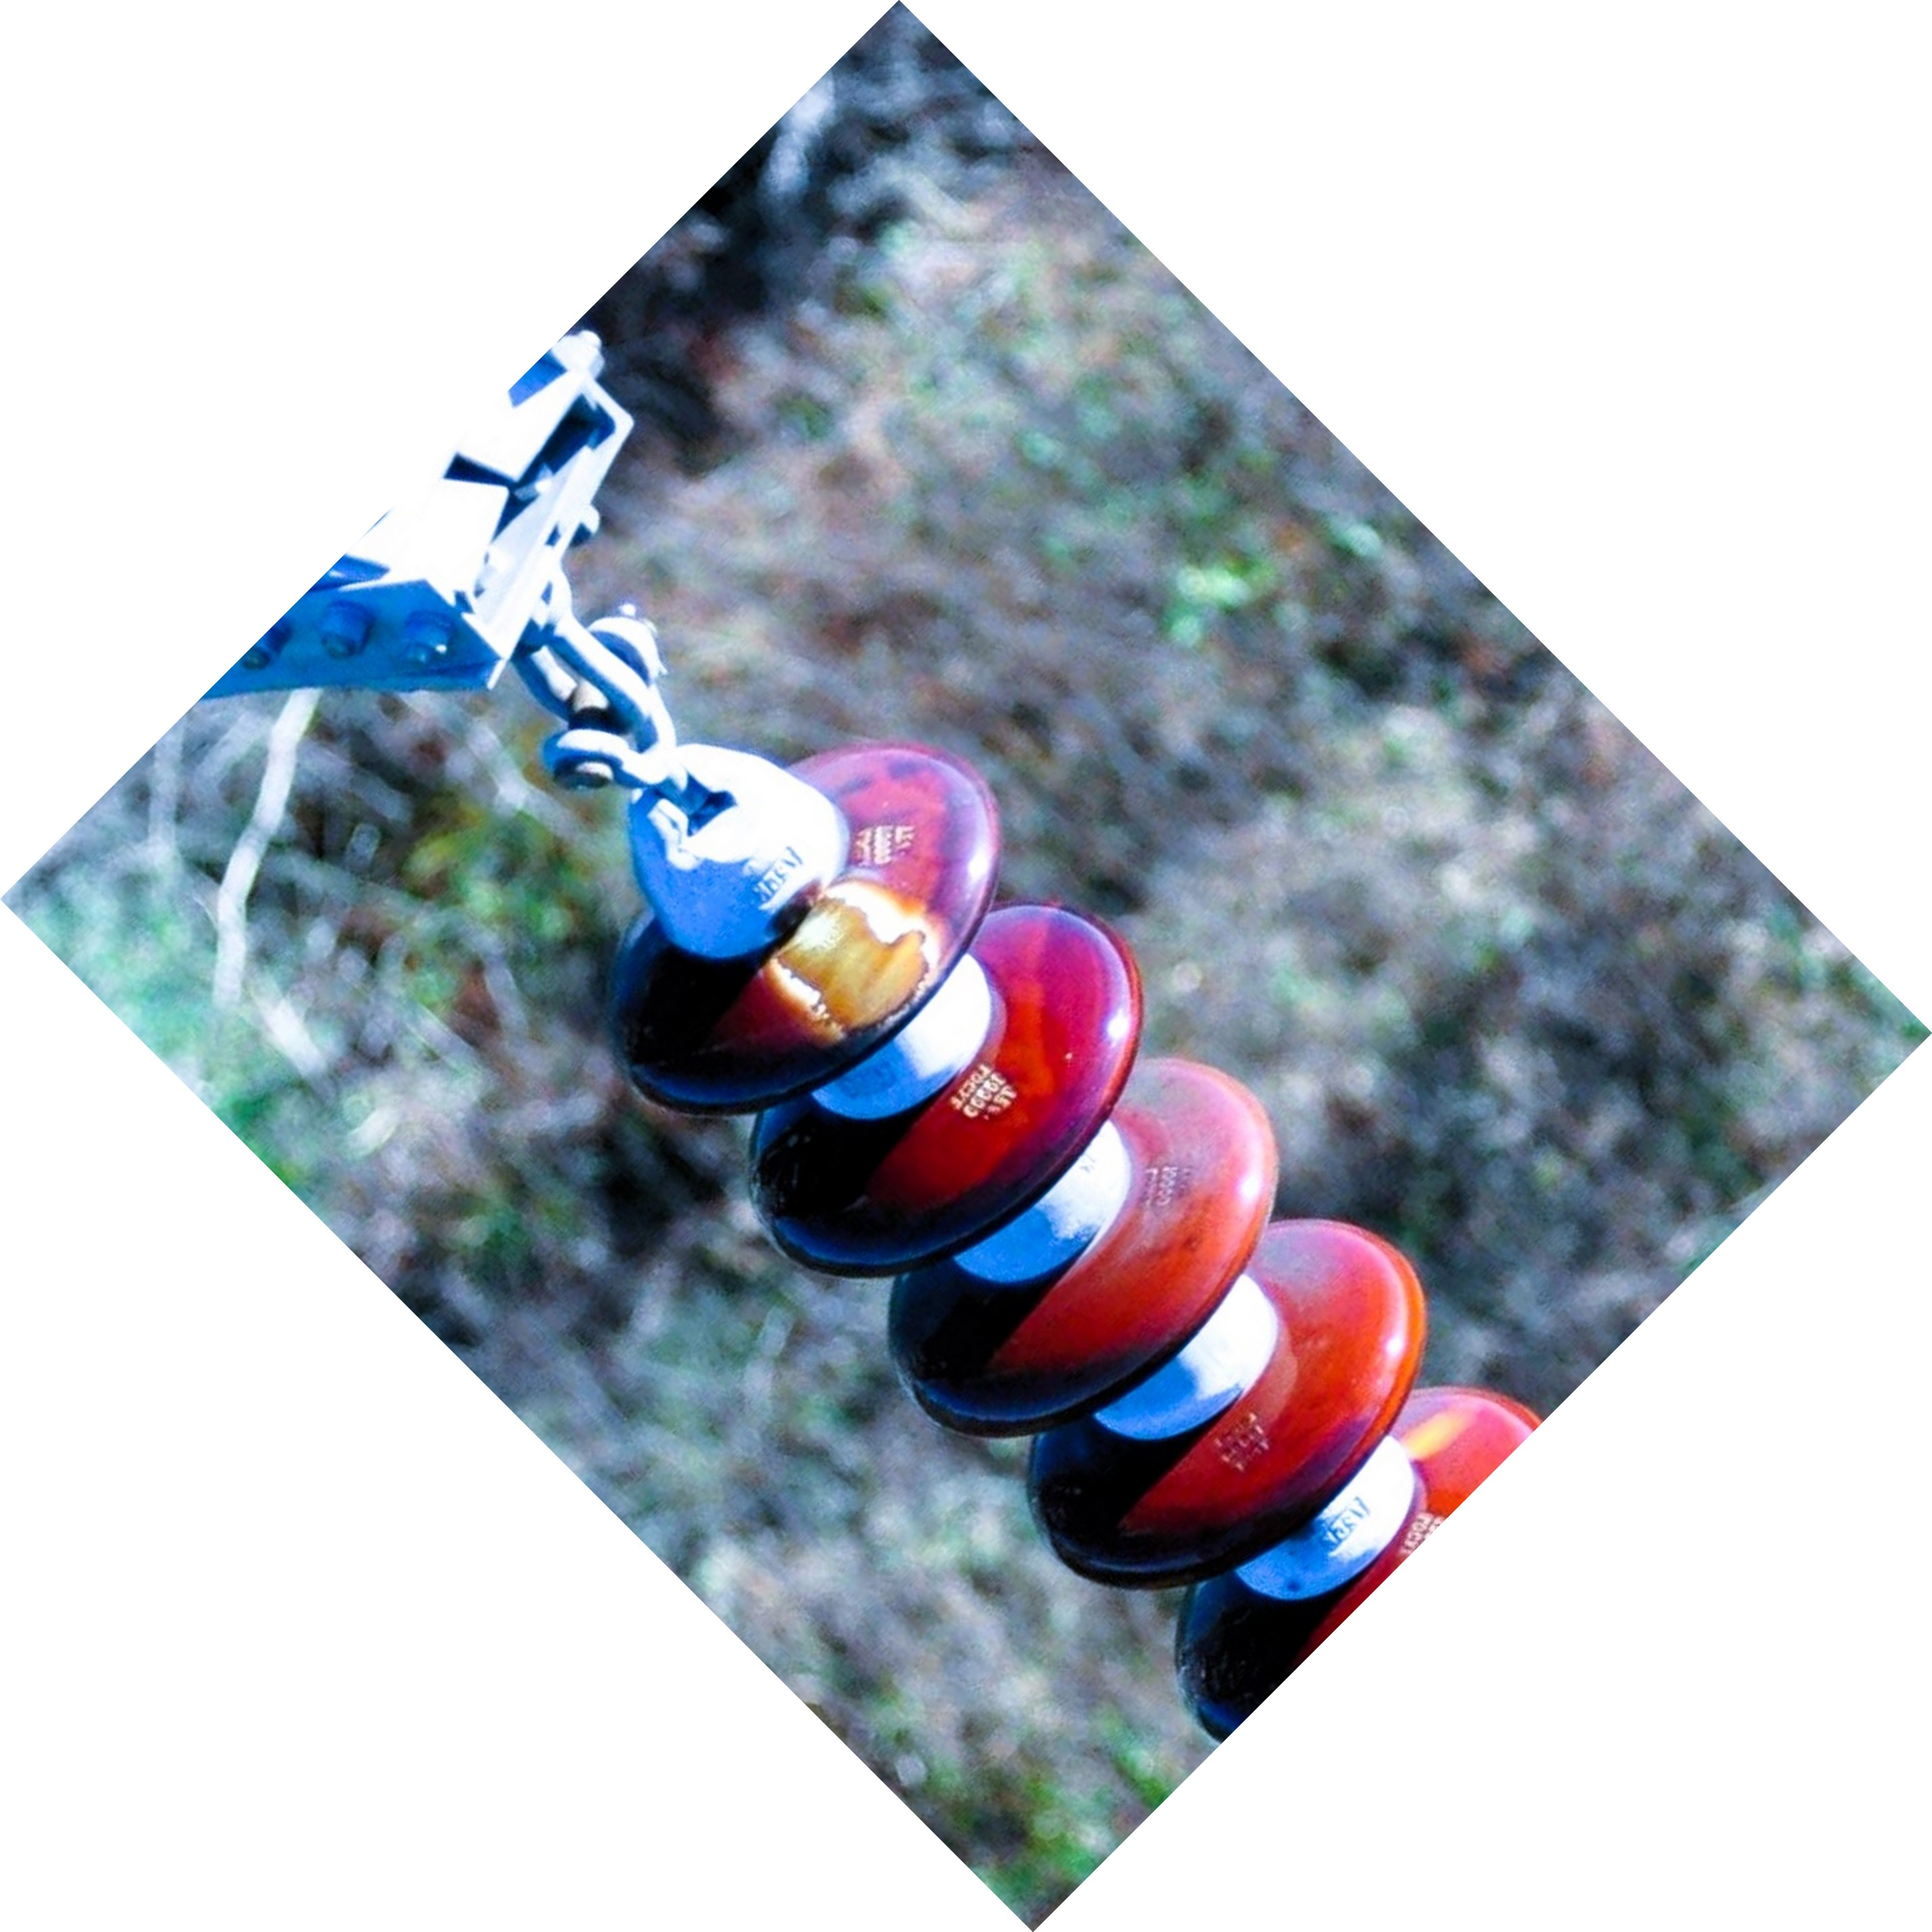Insulator flashover: (594, 718, 1019, 1131)
